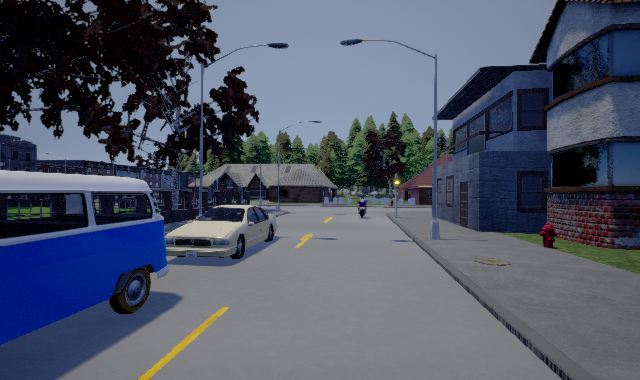motobike: (355, 195, 368, 218)
traffic_light: (392, 175, 403, 189)
vehicle: (1, 170, 168, 344), (164, 203, 280, 263)
